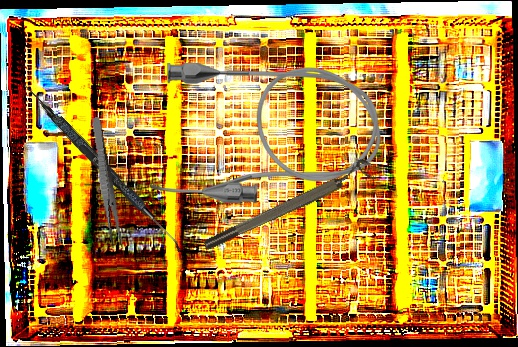Cannula: (150, 63, 381, 203)
Dressing Forceps: (88, 116, 124, 249)
Fixation Ring: (198, 155, 378, 254)
Spatula Surgical: (16, 80, 189, 253)
